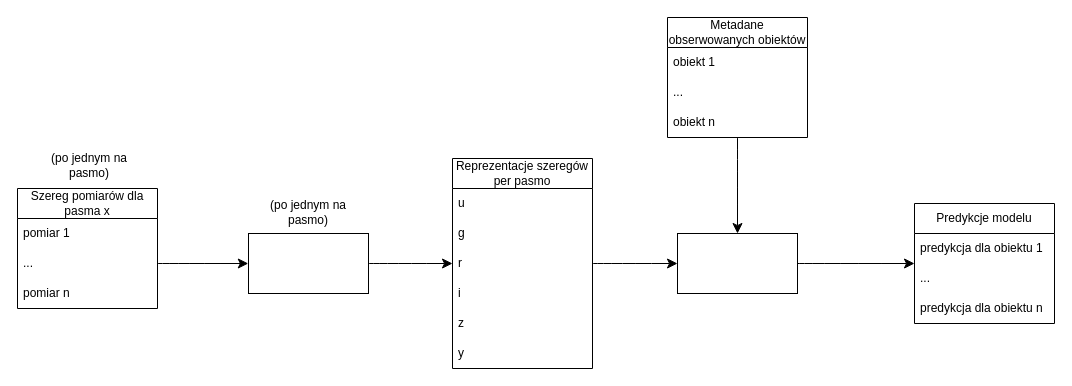
Image size: 1072x386. Some labels were removed from this diagram. Each missing label, with the centre of its shape:
"Główka klasyfikacyjna (MLP)" goes at pixel 737 263.
"LSTM dla pasma x" goes at pixel 308 263.
